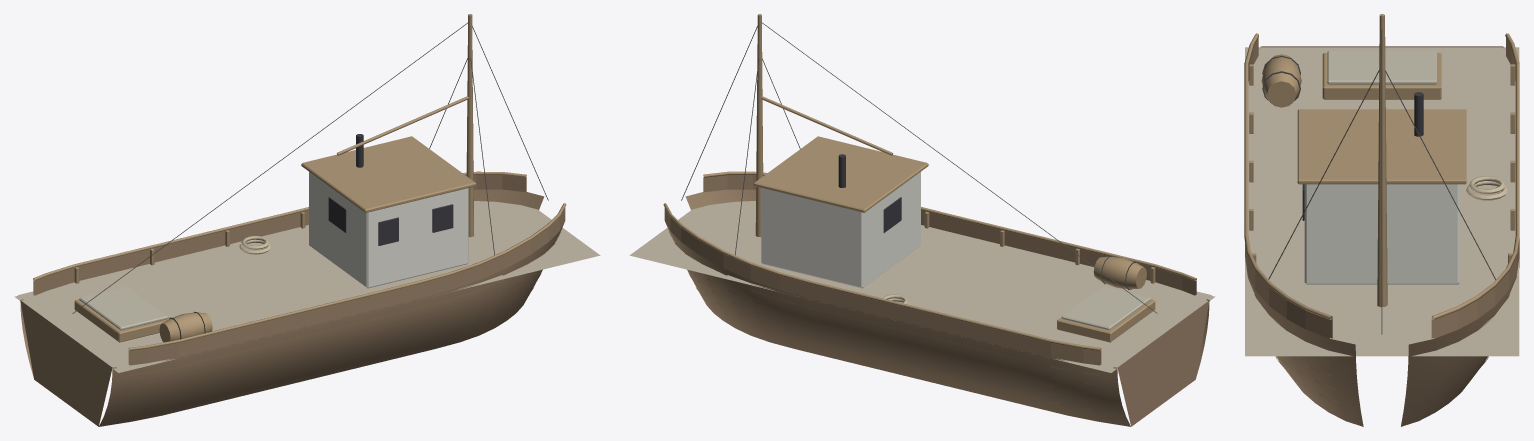
Rendered from boat.glb.
The picture shows the model from 3 angles, left to right: view 1: azimuth 30°, elevation 25°; view 2: azimuth 150°, elevation 25°; view 3: azimuth 270°, elevation 25°; orthographic projection. The views are drawn at different scales.
Parts seen in each view (by area): view 1: boat.hull_wood, boat.deck_wood, boat.wood, boat.white_paint, boat.canvas, boat.black, boat.iron; view 2: boat.hull_wood, boat.deck_wood, boat.wood, boat.white_paint, boat.canvas, boat.iron, boat.black; view 3: boat.deck_wood, boat.wood, boat.white_paint, boat.hull_wood, boat.canvas, boat.iron, boat.rope, boat.black.
Part boxes in pixels (x1,y1,x2,y2): boat.hull_wood: [20, 174, 565, 426]; boat.deck_wood: [14, 201, 600, 372]; boat.wood: [33, 14, 566, 350]; boat.white_paint: [309, 172, 468, 288]; boat.canvas: [79, 286, 168, 330]; boat.black: [328, 134, 453, 245]; boat.iron: [72, 22, 548, 339]; boat.hull_wood: [664, 175, 1209, 426]; boat.deck_wood: [629, 201, 1215, 372]; boat.wood: [663, 14, 1196, 350]; boat.white_paint: [761, 172, 920, 288]; boat.canvas: [1061, 286, 1150, 330]; boat.iron: [681, 22, 1157, 313]; boat.black: [838, 154, 901, 232]; boat.deck_wood: [1245, 47, 1519, 356]; boat.wood: [1244, 14, 1519, 319]; boat.white_paint: [1304, 184, 1459, 284]; boat.hull_wood: [1245, 37, 1519, 426]; boat.canvas: [1327, 50, 1436, 84]; boat.iron: [1262, 30, 1495, 334]; boat.rope: [1466, 176, 1508, 200]; boat.black: [1302, 92, 1423, 220].
Size of the model in its own units: 16.2 by 9.2 by 6.03.
